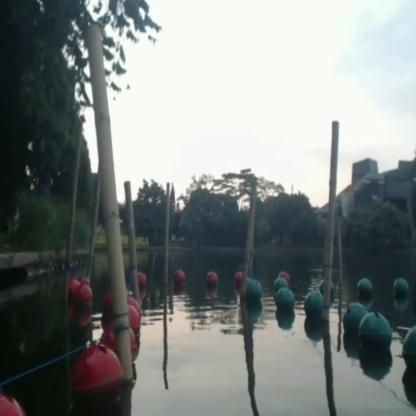green_buoy: (357, 311, 391, 358), (274, 288, 294, 322), (342, 302, 363, 332), (304, 292, 325, 322), (245, 279, 264, 311), (356, 275, 374, 302), (392, 278, 409, 304)
red_buoy: (73, 344, 121, 409), (78, 285, 92, 313), (174, 270, 186, 292), (204, 272, 218, 290), (69, 278, 80, 298), (235, 270, 244, 288)
